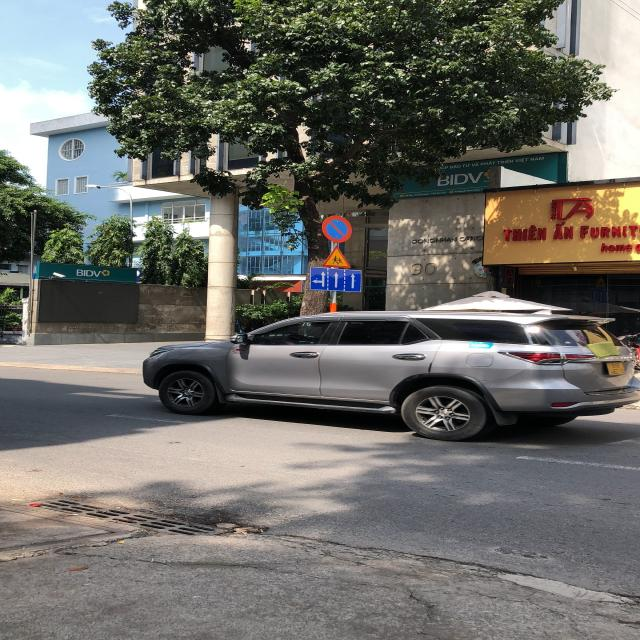Bien bao cam do xe: (316, 211, 357, 243)
Bien bao tre em: (320, 244, 361, 269)
